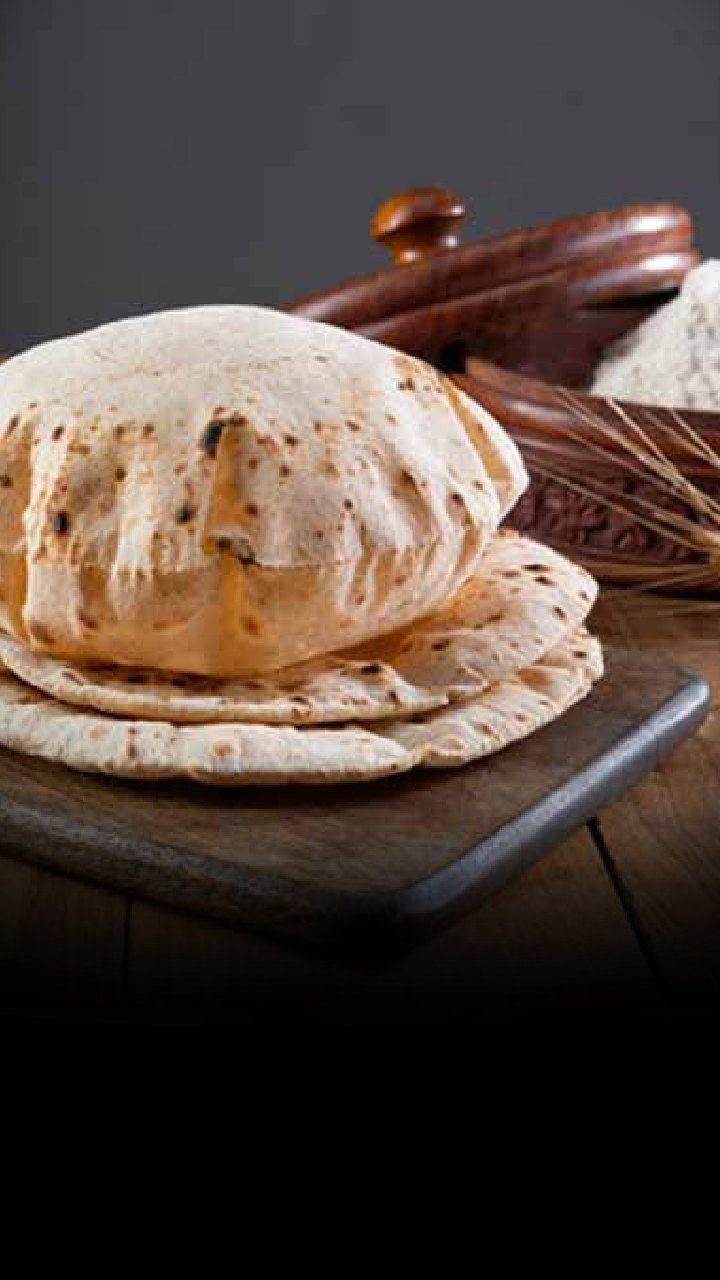roti phulka: (0, 283, 614, 796)
